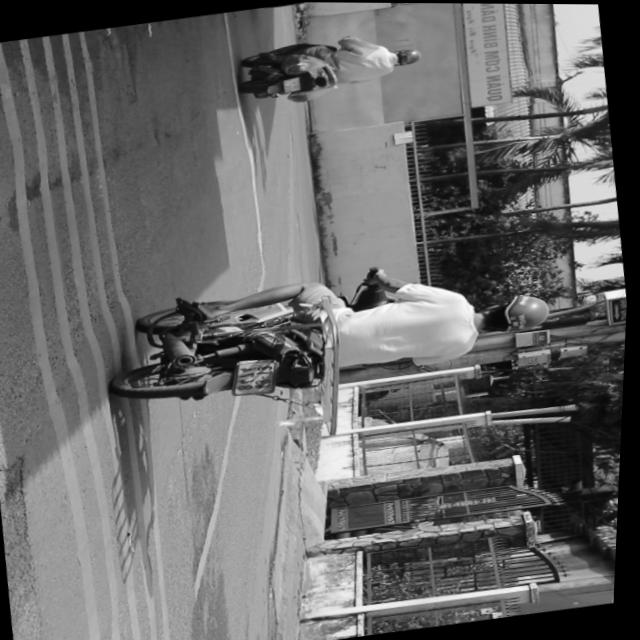helmet: (477, 289, 559, 338)
licenseplate: (104, 239, 570, 428)
nohelmet: (233, 356, 285, 399)
